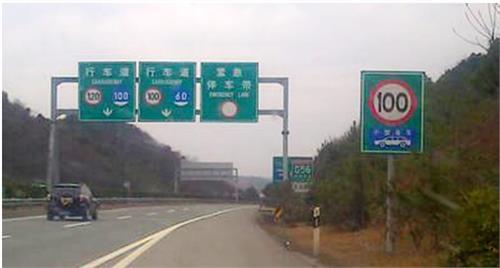Speed_limit_100km: (368, 80, 417, 125)
